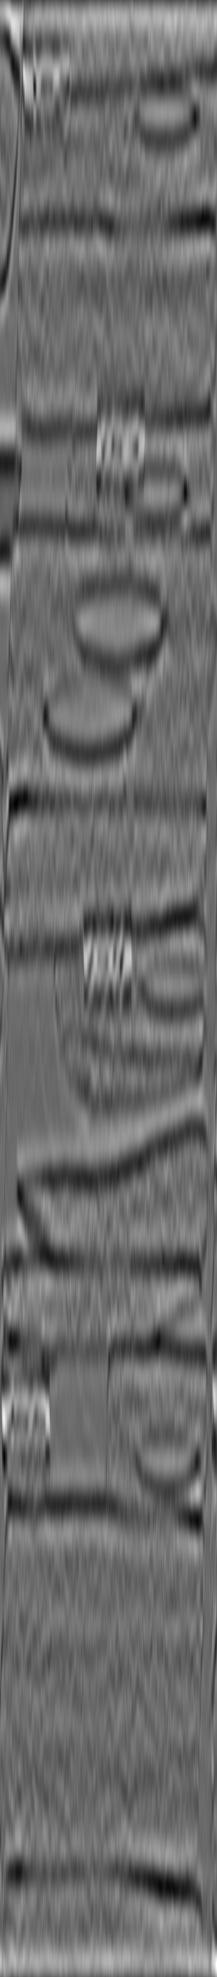hplug: (122, 1420, 204, 1500), (122, 77, 209, 146), (115, 458, 198, 526), (132, 948, 203, 1023)
scal: (29, 667, 151, 767), (61, 575, 174, 671)
vplug: (29, 1326, 119, 1516), (3, 936, 96, 1107)
